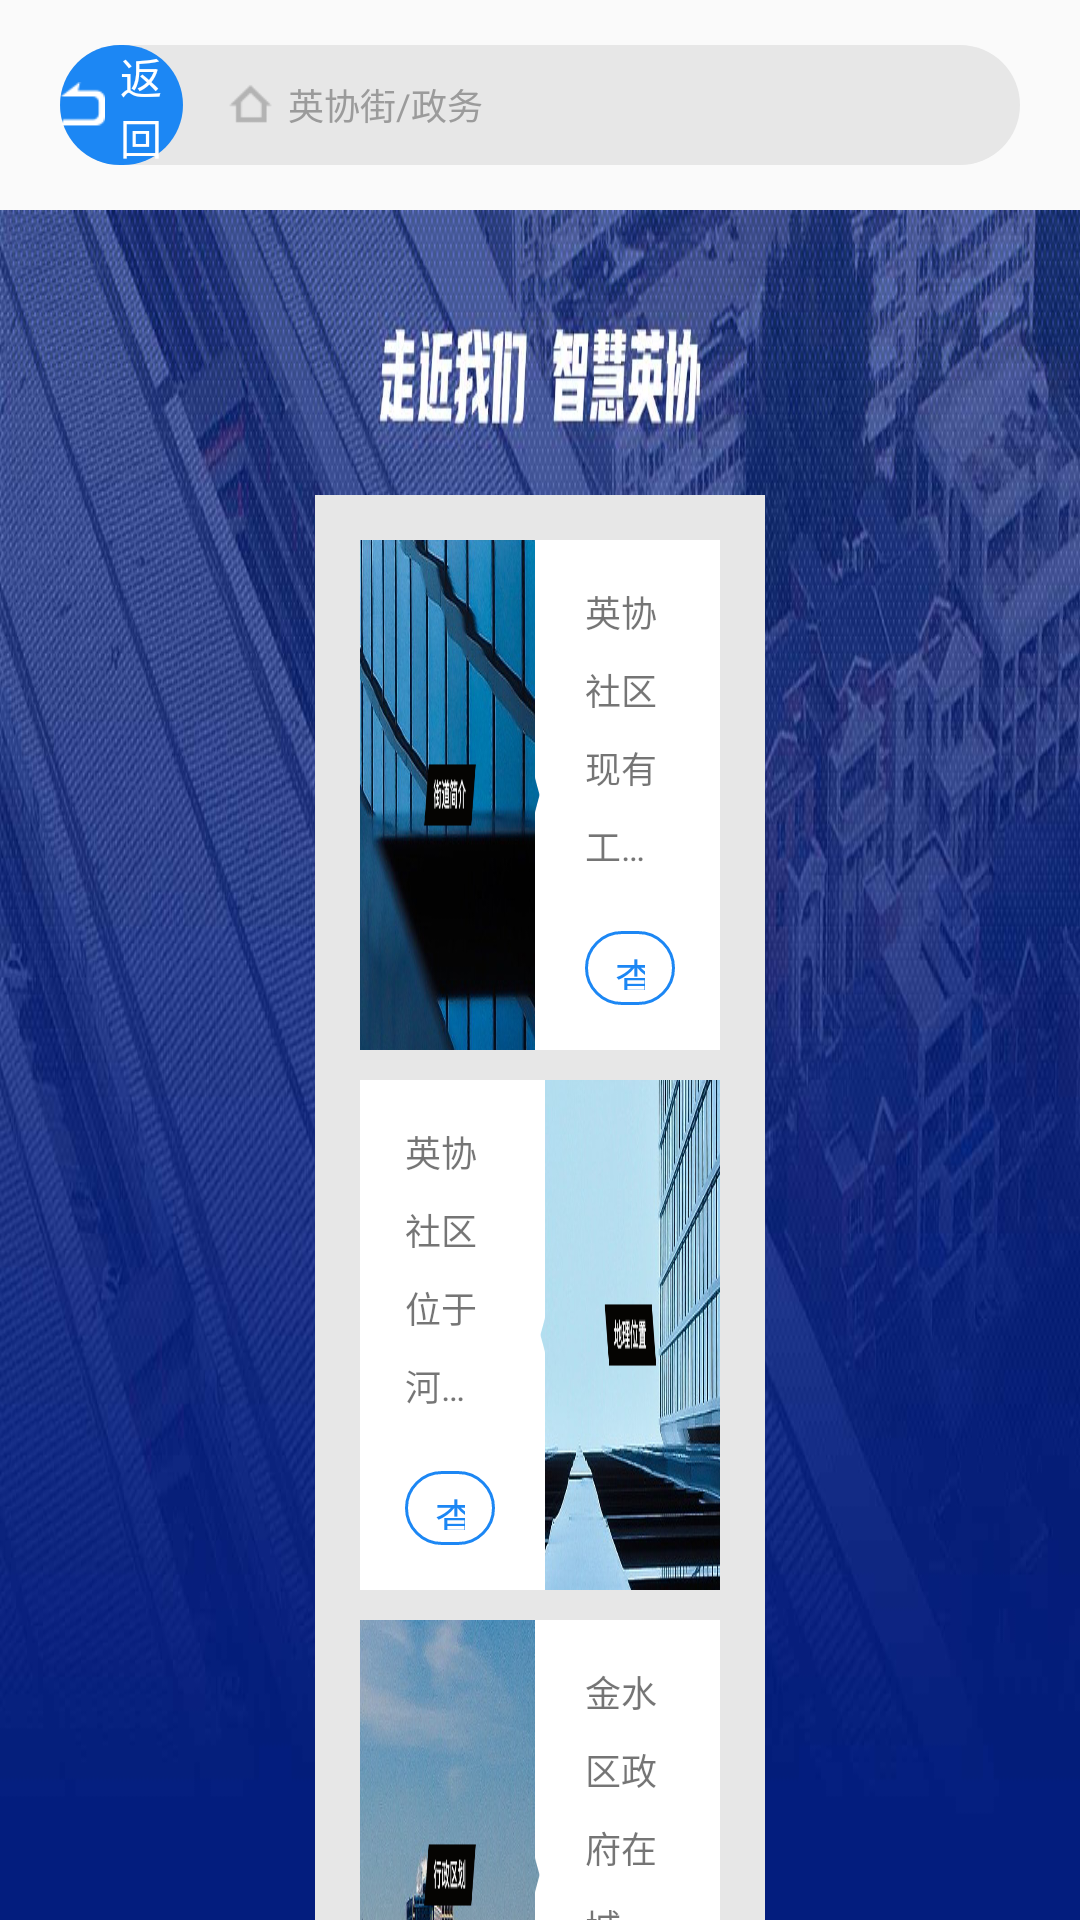

Icons on this 1080×1920 Android screen, each with its box as [x1=x1, y1=y1, x2=x2, y2=y2]:
crumb home: [x1=231, y1=86, x2=270, y2=122]
